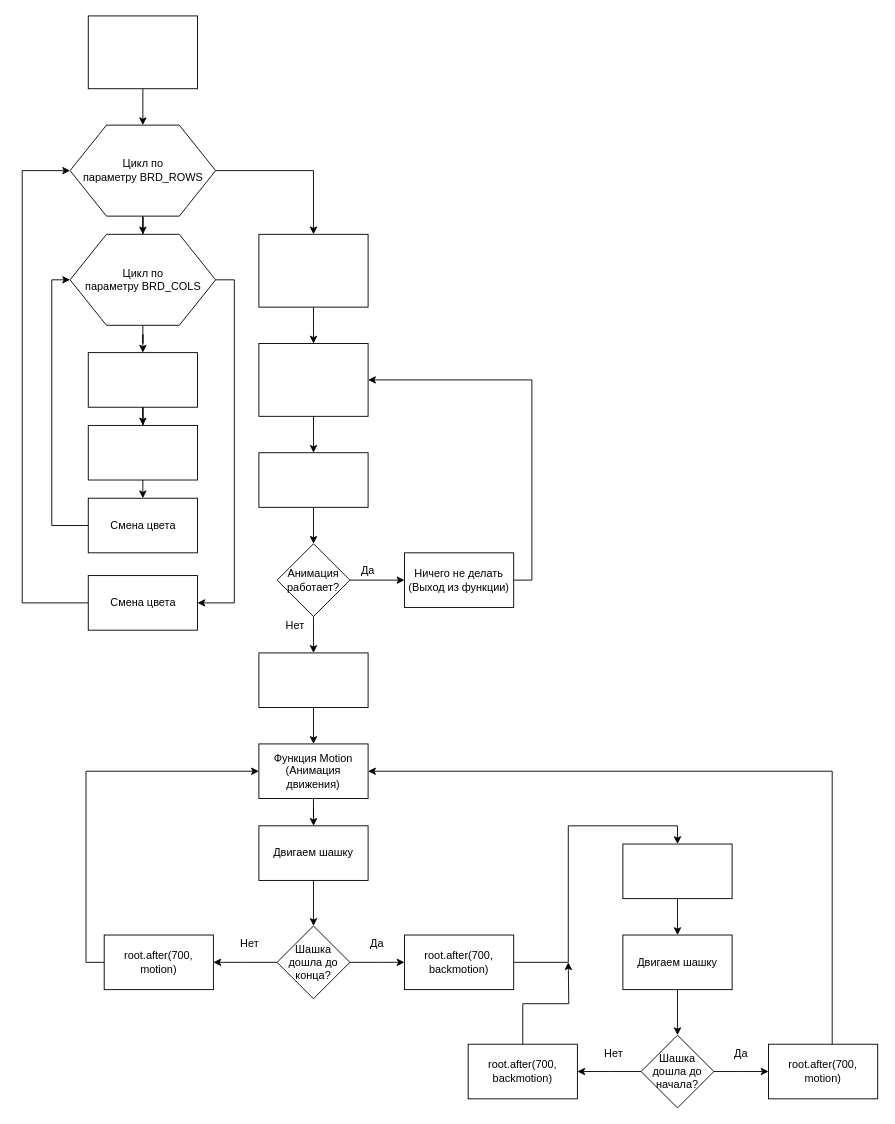
Image size: 895x1124. Some labels were removed from this diagram. Here are the shapes that lost their labels. From the top down, the centre of each, then its label:
point 142,52: Задание начальных параметров: BRD_ROWS BRD_COLS CELL_SZ
point 313,270: Создание кнопки запуска движения и реализация вызова контекстного меню
point 142,379: Вычисление координат очередной клетки
point 313,379: Ожидание
point 142,452: Создание клетки
point 313,479: clicked (Нажат пуск)
point 313,680: Включить анимацию
point 677,871: Функция backmotion (Анимация движения)
